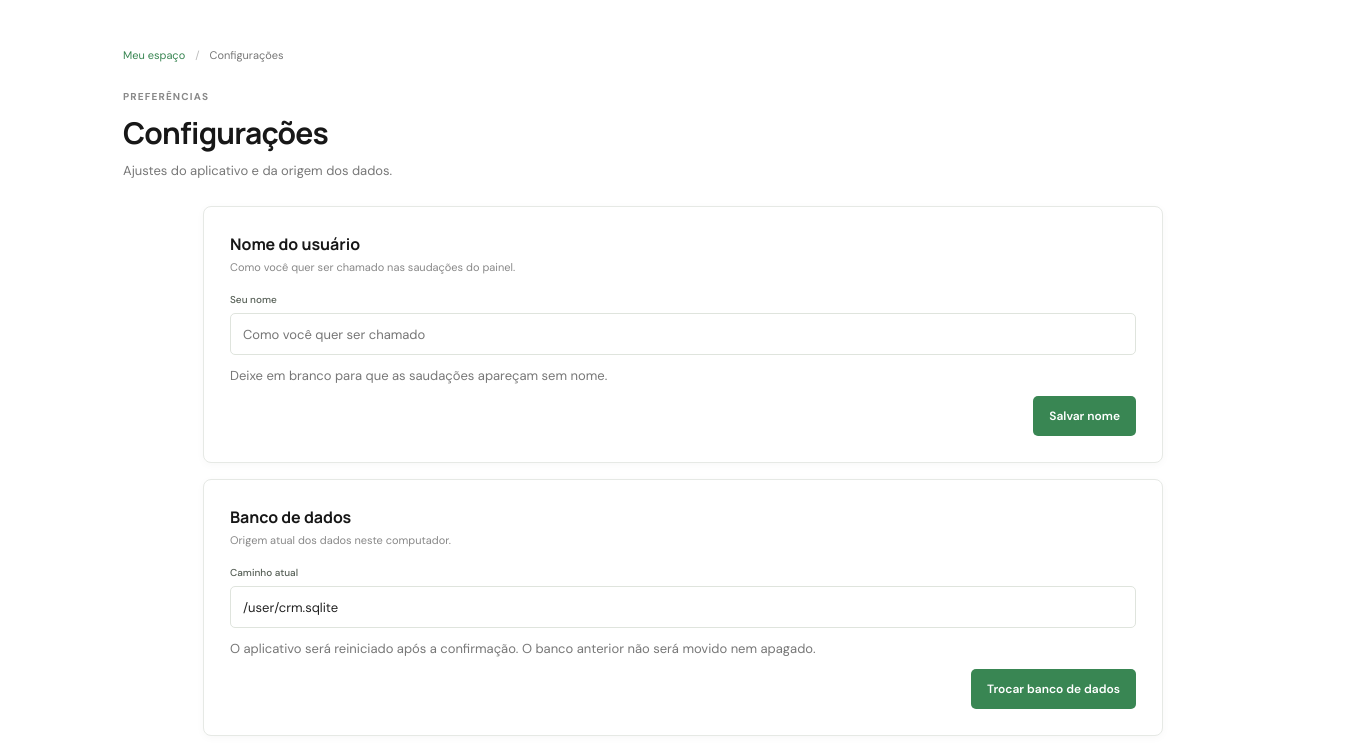
Test: mostra erro se a promessa do seletor rejeitar
The image size is (1366, 744).
Expected: the field showing "/user/crm.sqlite" is shown, left=230, top=586, right=1136, bottom=628
Click the button "Trocar banco de dados": (1054, 689) left=971, top=669, right=1136, bottom=709
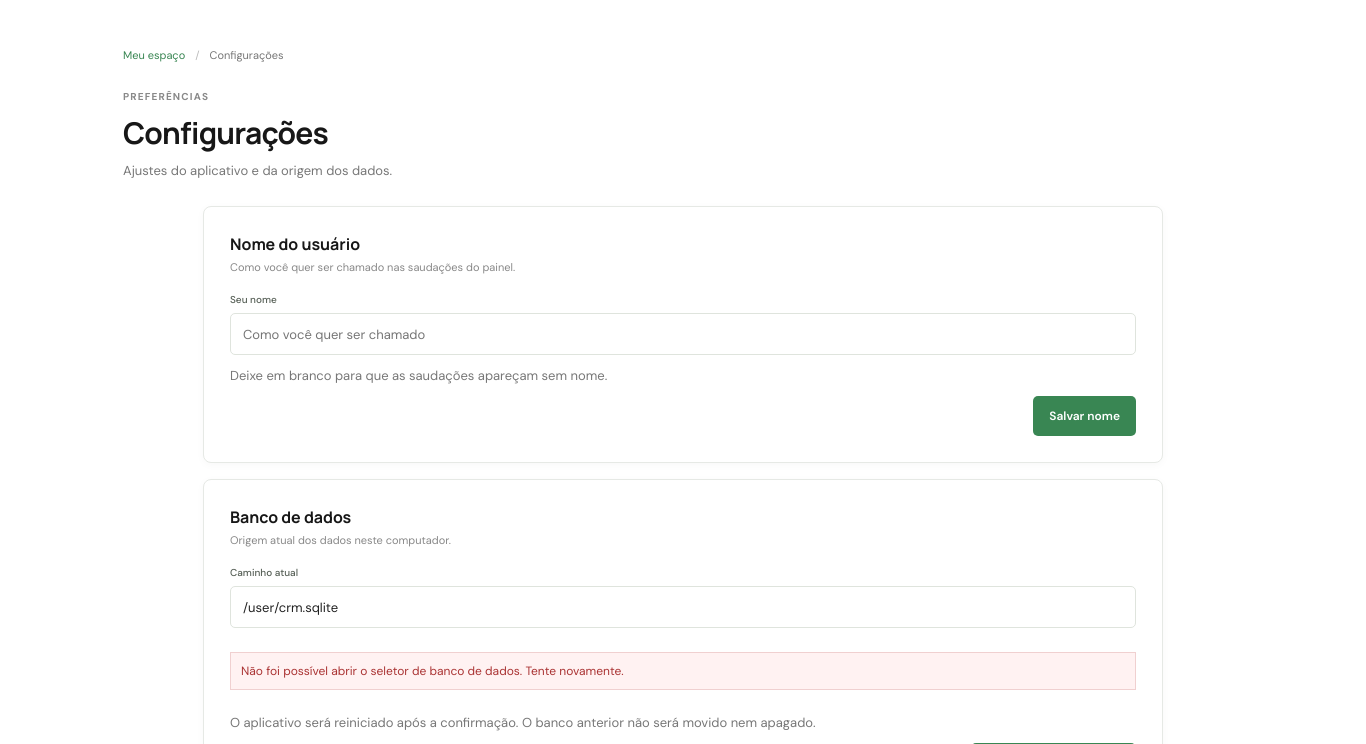
Expected: the message shows "Não foi possível abrir o seletor", left=241, top=663, right=624, bottom=679
